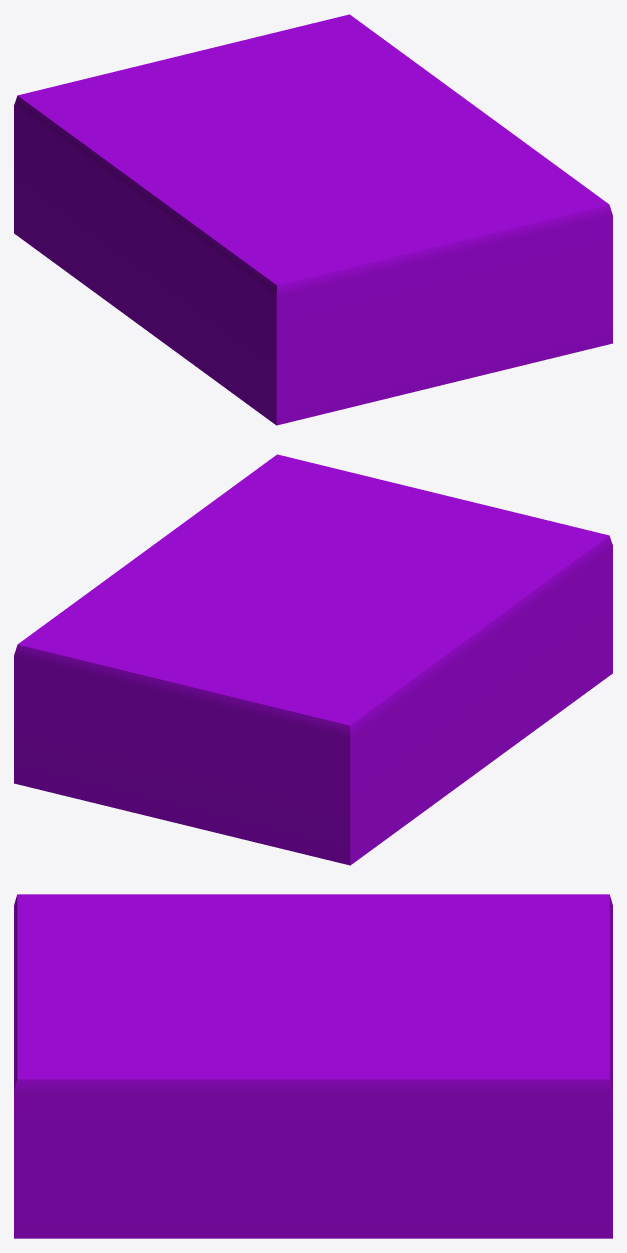
The model's file is Cabinet_Pawn_Board_01.fbx.
3 views of the same model, one above another, from view 1: azimuth 30°, elevation 25°; view 2: azimuth 150°, elevation 25°; view 3: azimuth 270°, elevation 25° (orthographic). The views are drawn at different scales.
Parts seen in each view (by area): view 1: Cabinet_Pawn_Board_01; view 2: Cabinet_Pawn_Board_01; view 3: Cabinet_Pawn_Board_01.
Part boxes in pixels (box(x1,y1,x2,y2)): Cabinet_Pawn_Board_01: box(14, 14, 612, 425); Cabinet_Pawn_Board_01: box(14, 454, 612, 865); Cabinet_Pawn_Board_01: box(14, 894, 612, 1238).
Size of the model in its own units: 10.26 by 4.04 by 13.87.
